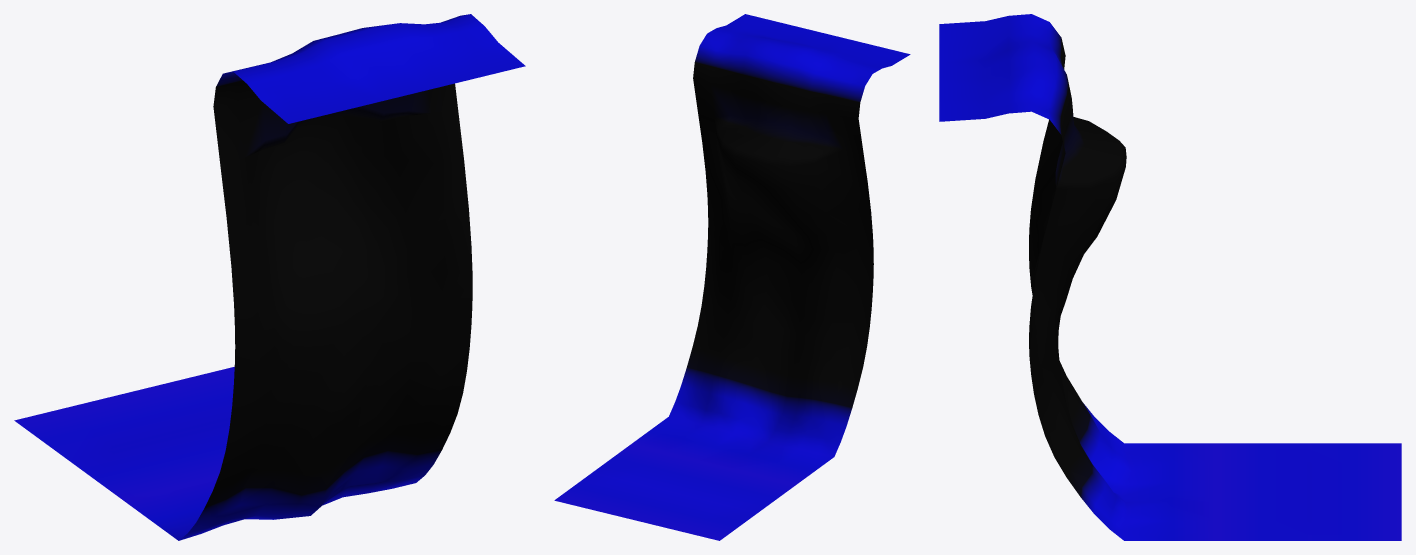
Rendered from WaterFallCliff01B 3M.fbx.
The picture shows the model from 3 angles, left to right: view 1: azimuth 30°, elevation 25°; view 2: azimuth 150°, elevation 25°; view 3: azimuth 270°, elevation 25°; orthographic projection. The views are drawn at different scales.
Visible parts, largest first — view 1: WaterFallCliff01B 3M; view 2: WaterFallCliff01B 3M; view 3: WaterFallCliff01B 3M.
Boxes of the visible parts, x1,y1,x2,y2 form: WaterFallCliff01B 3M: (14,14,525,540); WaterFallCliff01B 3M: (554,14,910,540); WaterFallCliff01B 3M: (939,14,1401,540).
Bounding box in the file's own units: 1 × 2.1 × 2.
